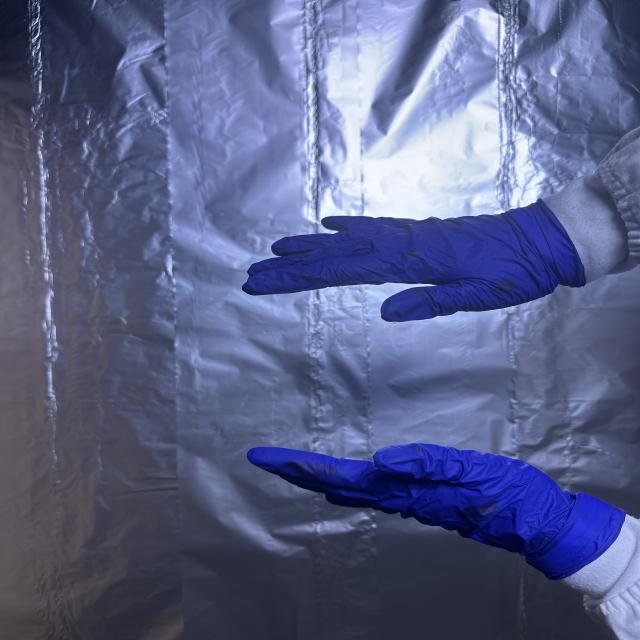gloves_contaminated: (248, 444, 621, 578), (243, 204, 585, 322)
